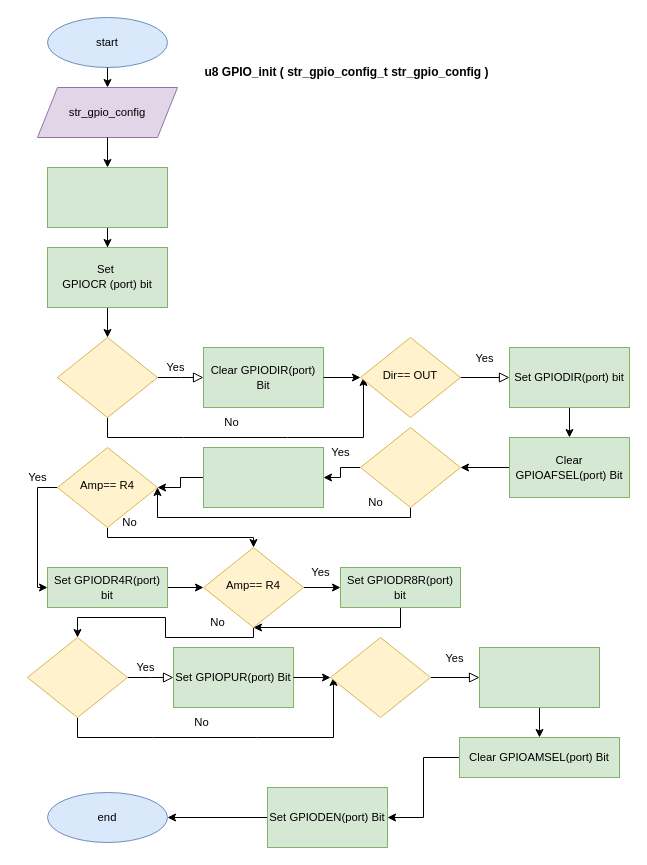
This 647x865 diagram has some shape labels left out. Each missing label, with the box of its shape:
Amp== R2: (360, 426, 460, 508)
Clear GPIOPUR(port) bit: (478, 646, 600, 708)
Dir== IN: (56, 336, 158, 418)
PullUp== DIS: (330, 636, 430, 718)
PullUp== EN: (26, 636, 128, 718)
Set GPIODR2R(port) bit: (202, 446, 324, 508)
Set RCGCGPIO (port): (46, 166, 168, 228)
